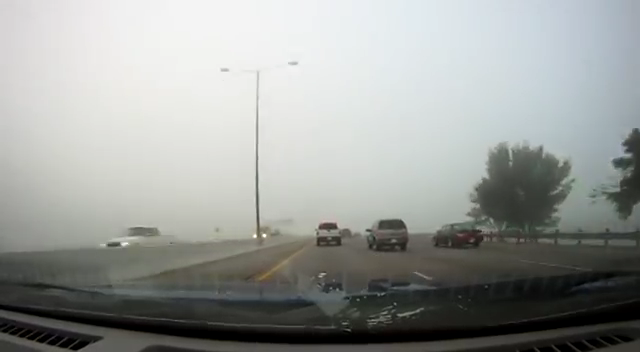car: (100, 226, 175, 257), (365, 218, 409, 252), (432, 222, 484, 248), (314, 221, 341, 246), (341, 228, 352, 238)
